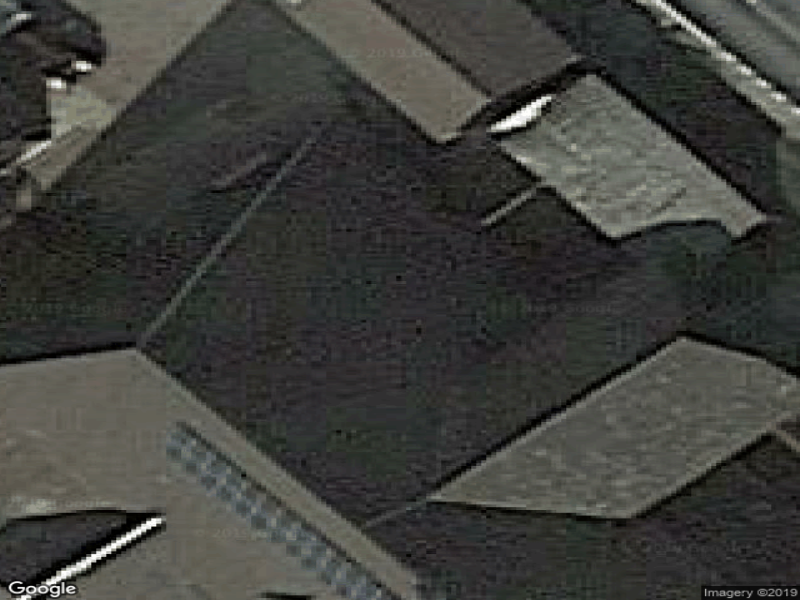pv: (162, 421, 402, 600)
